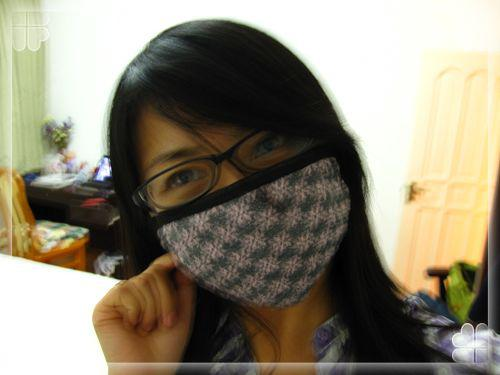OK: (148, 101, 346, 299)
